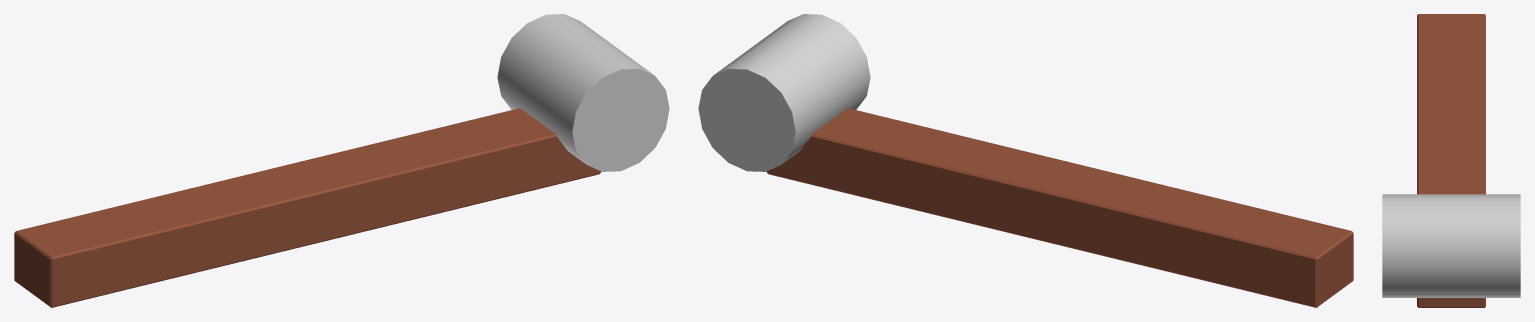
Rendered from storage_container_left_door_lever.glb.
3 views of the same model, side by side, from view 1: azimuth 30°, elevation 25°; view 2: azimuth 150°, elevation 25°; view 3: azimuth 270°, elevation 25° (orthographic). The views are drawn at different scales.
Parts seen in each view (by area): view 1: storage_container_left_door_lever.001; view 2: storage_container_left_door_lever.001; view 3: storage_container_left_door_lever.001.
Part boxes in pixels (<box>): storage_container_left_door_lever.001: <box>14,14,669,307</box>; storage_container_left_door_lever.001: <box>698,14,1353,307</box>; storage_container_left_door_lever.001: <box>1382,14,1520,307</box>.
Size of the model in its own units: 0.37 by 0.07 by 0.08.
